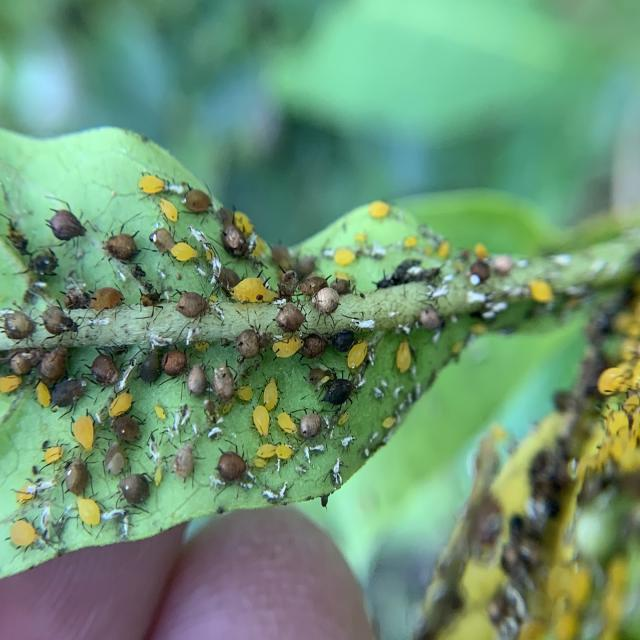Aphid-Grouped-: (7, 168, 444, 527)
Aphid-Grown-: (44, 194, 95, 252), (166, 434, 205, 488), (112, 465, 156, 512), (46, 373, 96, 414), (37, 302, 84, 344), (208, 438, 248, 487), (78, 346, 122, 390), (167, 286, 215, 326), (64, 406, 102, 453), (62, 450, 98, 498), (130, 346, 169, 390), (320, 367, 361, 407), (266, 297, 308, 336), (105, 226, 147, 264), (84, 284, 130, 318), (155, 339, 192, 381), (98, 436, 134, 479), (290, 403, 329, 442), (72, 492, 108, 534), (142, 222, 183, 256), (100, 387, 141, 421), (180, 357, 214, 397), (179, 183, 214, 220), (256, 367, 283, 414), (385, 337, 415, 378), (135, 168, 169, 202), (166, 236, 201, 269), (309, 286, 342, 320), (251, 402, 276, 446), (345, 336, 372, 371), (152, 197, 183, 227), (275, 405, 301, 440), (252, 433, 280, 464), (39, 440, 72, 466), (235, 382, 258, 405), (150, 400, 169, 424)
